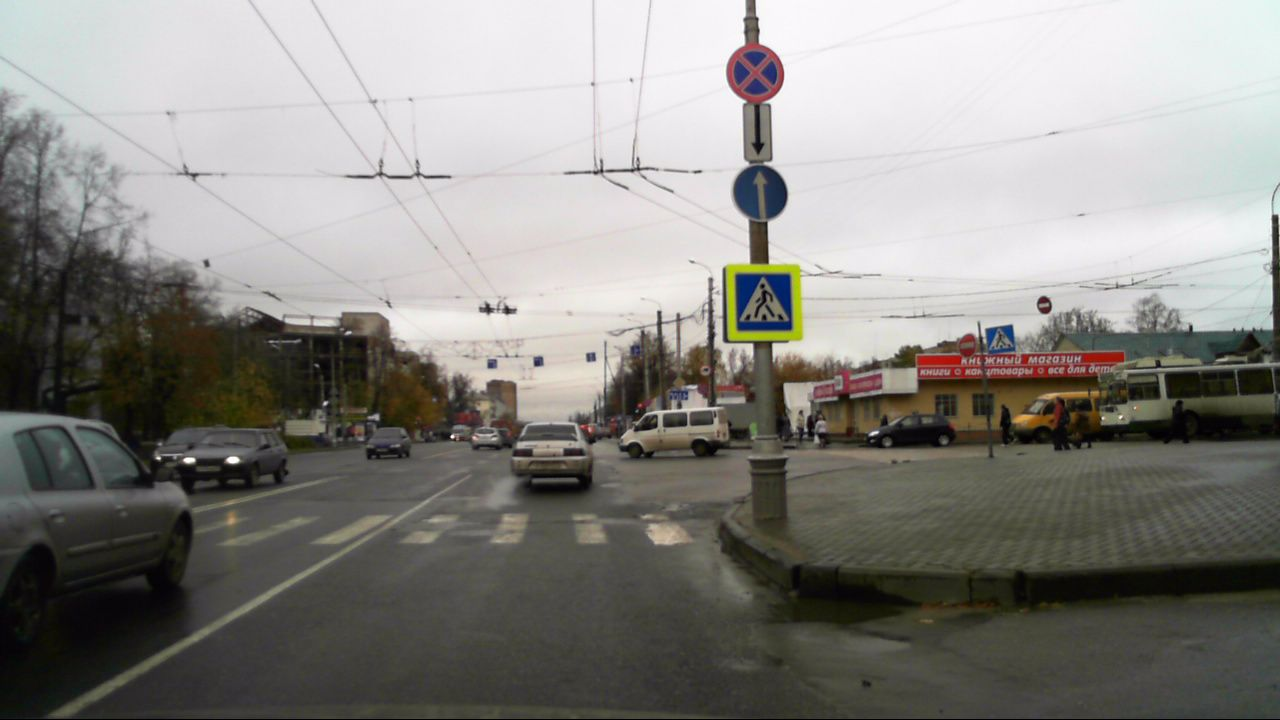No Parking: (725, 43, 784, 101)
